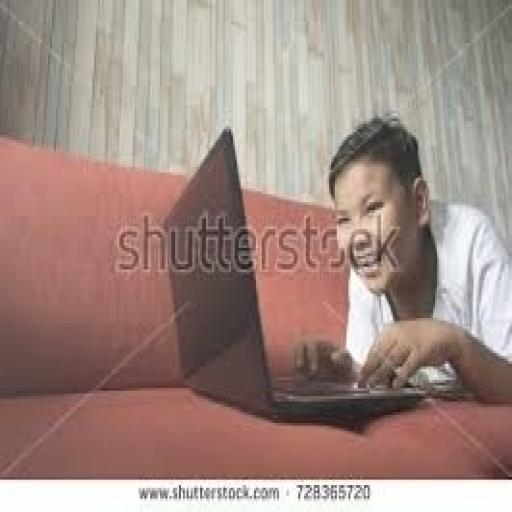using_laptop: (160, 124, 429, 423)
